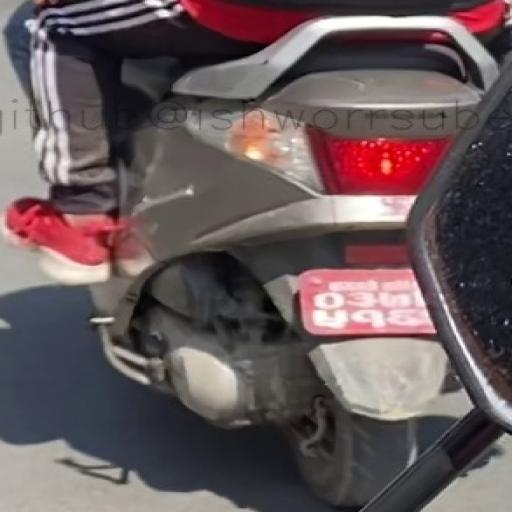license_plate: (289, 265, 450, 338)
